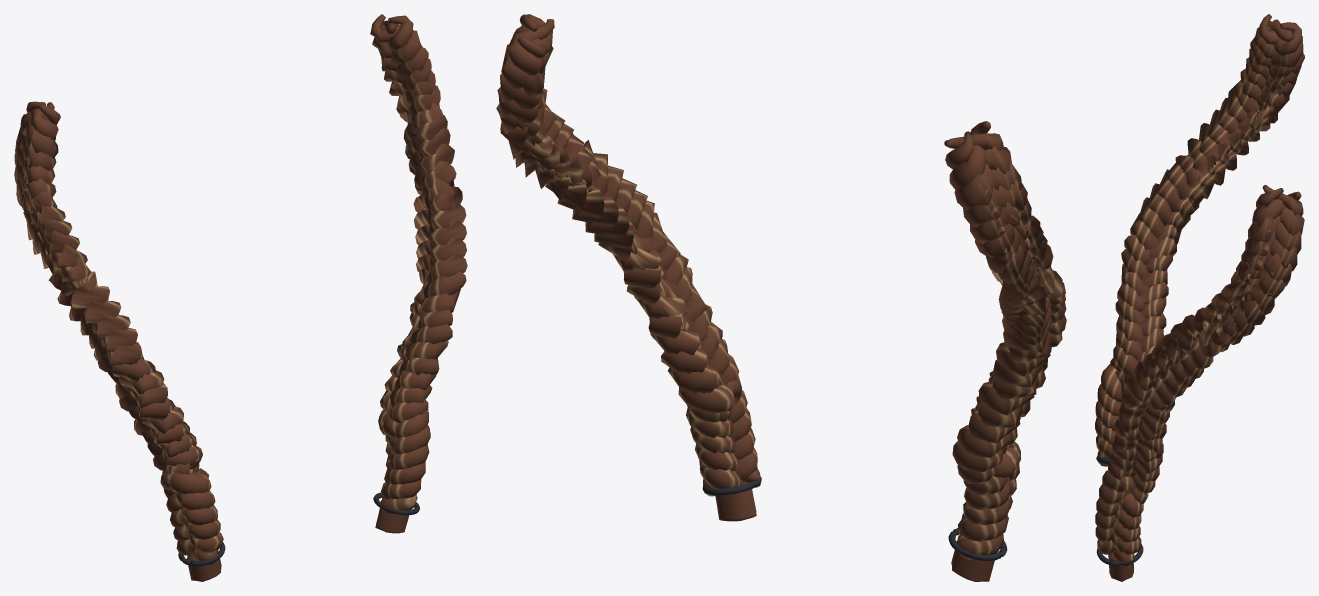
Rendered from Highlights-79137781d454252-hair.glb.
The picture shows the model from 3 angles, left to right: view 1: azimuth 30°, elevation 25°; view 2: azimuth 150°, elevation 25°; view 3: azimuth 270°, elevation 25°; orthographic projection. The views are drawn at different scales.
Parts seen in each view (by area): view 1: 226 hairLengths / Hair / chestnut226, 226 hairLengths / Hair / ties226; view 2: 226 hairLengths / Hair / chestnut226, 226 hairLengths / Hair / ties226; view 3: 226 hairLengths / Hair / chestnut226, 226 hairLengths / Hair / ties226.
Part boxes in pixels (<box>): 226 hairLengths / Hair / chestnut226: <box>14,14,467,581</box>; 226 hairLengths / Hair / ties226: <box>178,492,419,566</box>; 226 hairLengths / Hair / chestnut226: <box>496,14,1066,581</box>; 226 hairLengths / Hair / ties226: <box>702,477,1007,560</box>; 226 hairLengths / Hair / chestnut226: <box>1095,14,1304,581</box>; 226 hairLengths / Hair / ties226: <box>1096,456,1143,566</box>.
Size of the model in its own units: 1.03 by 1.06 by 0.4665.
2 materials, 1 textured.
